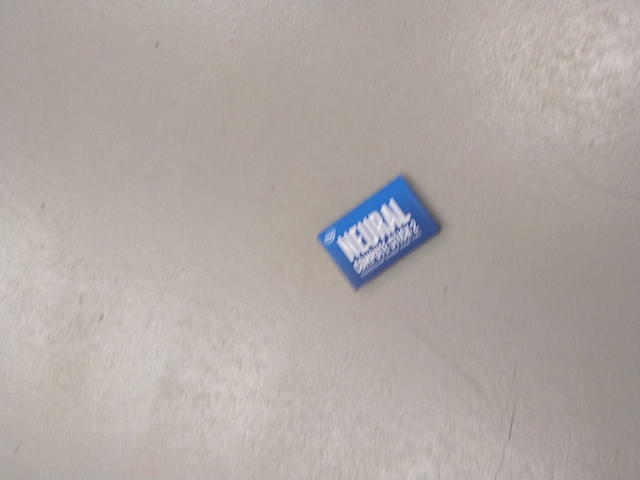box: (317, 173, 443, 292)
